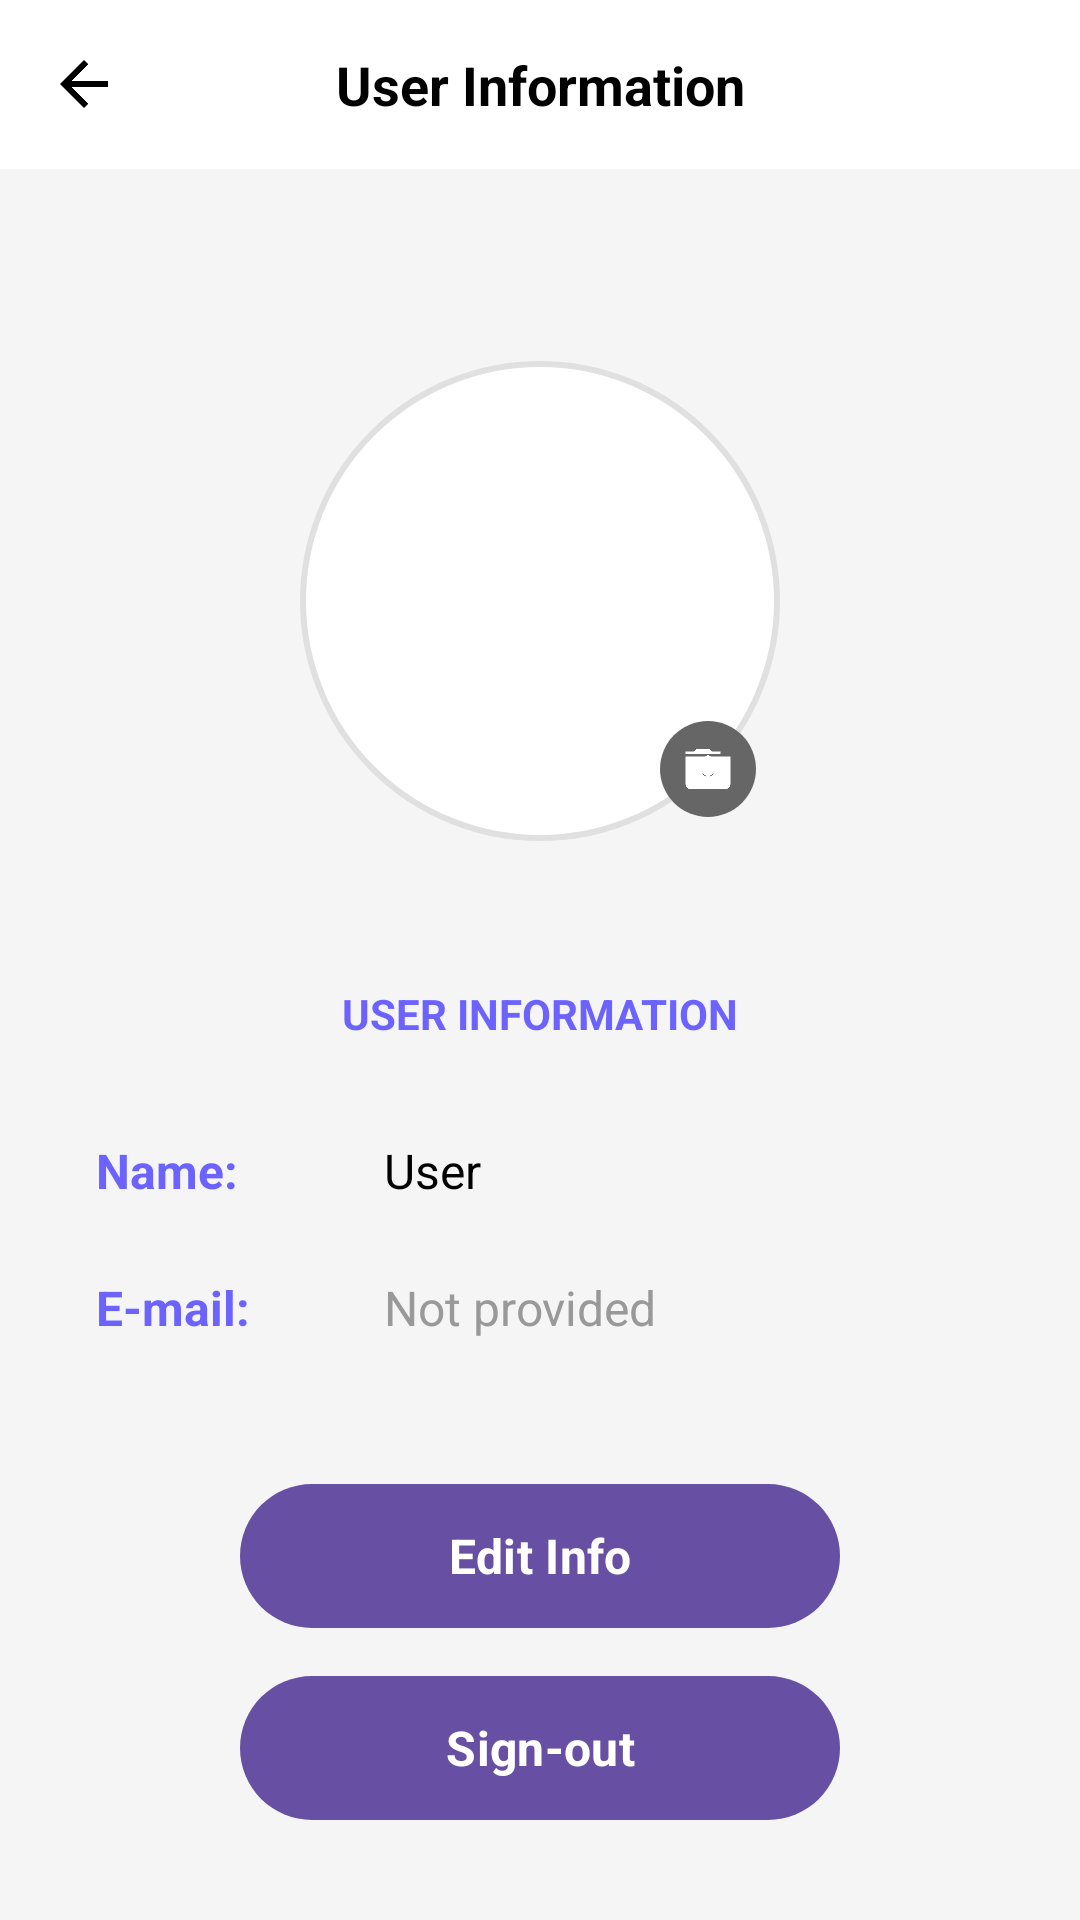

Icons on this 1080w x 1920h Android screen, each with the point to tap as point (x, y):
Back: point (84, 84)
Change Profile Picture: point (708, 769)
